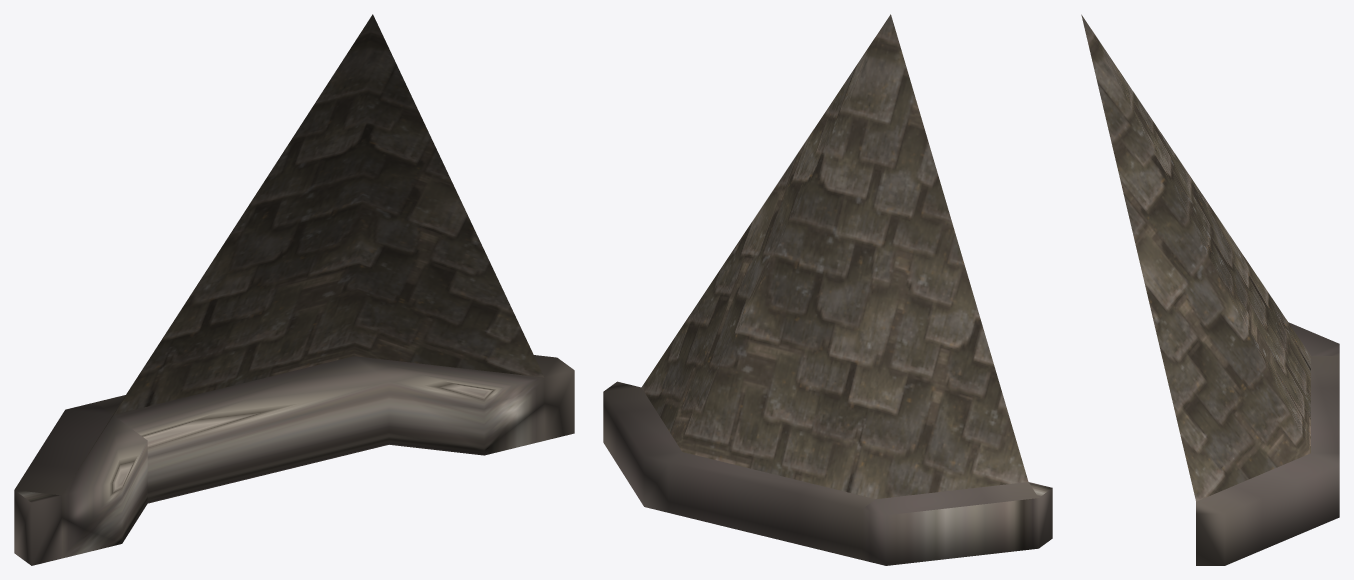
Rendered from towerblock_roof1.glb.
3 views of the same model, side by side, from view 1: azimuth 30°, elevation 25°; view 2: azimuth 150°, elevation 25°; view 3: azimuth 270°, elevation 25° (orthographic). The views are drawn at different scales.
Parts seen in each view (by area): view 1: towerblock_roof1; view 2: towerblock_roof1; view 3: towerblock_roof1.
Part boxes in pixels (x1=…): towerblock_roof1: x1=14, y1=14, x2=574, y2=565; towerblock_roof1: x1=603, y1=14, x2=1052, y2=565; towerblock_roof1: x1=1081, y1=14, x2=1339, y2=565.
Size of the model in its own units: 9 by 8.5 by 4.5.
Materials: 2 (2 with a texture image).
